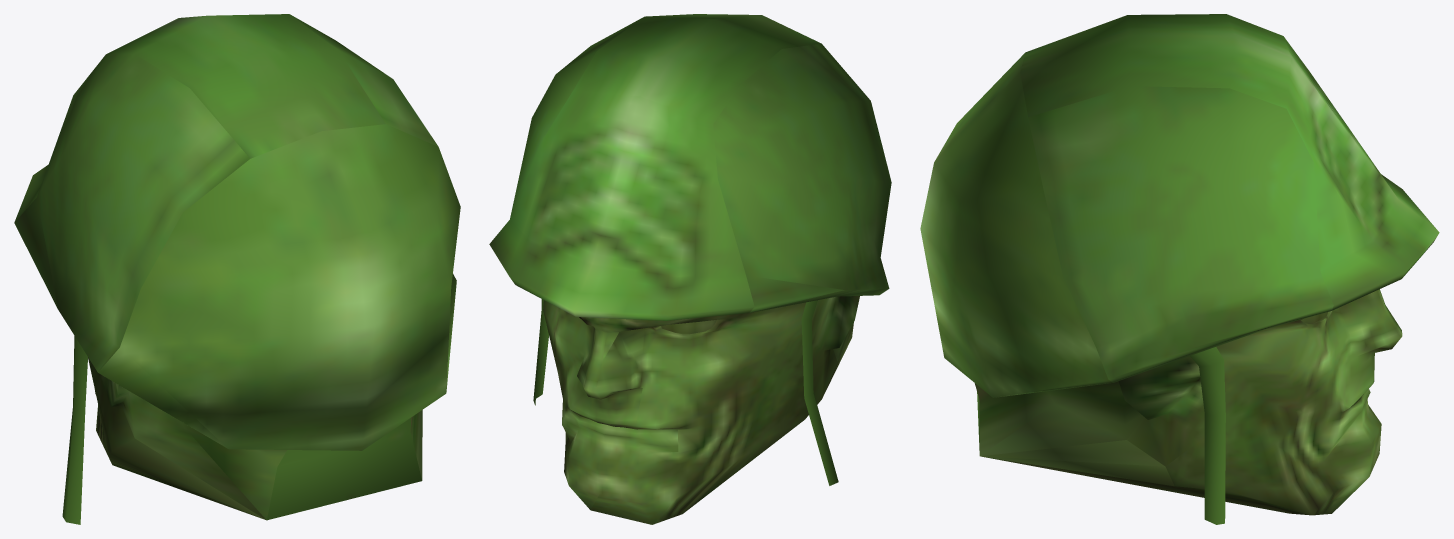
Rendered from a.ico.obj.
3 views of the same model, side by side, from view 1: azimuth 30°, elevation 25°; view 2: azimuth 150°, elevation 25°; view 3: azimuth 270°, elevation 25° (orthographic). The views are drawn at different scales.
Bounding box in the file's own units: 2.23 × 2.8 × 2.84.
1 material, 1 textured.
